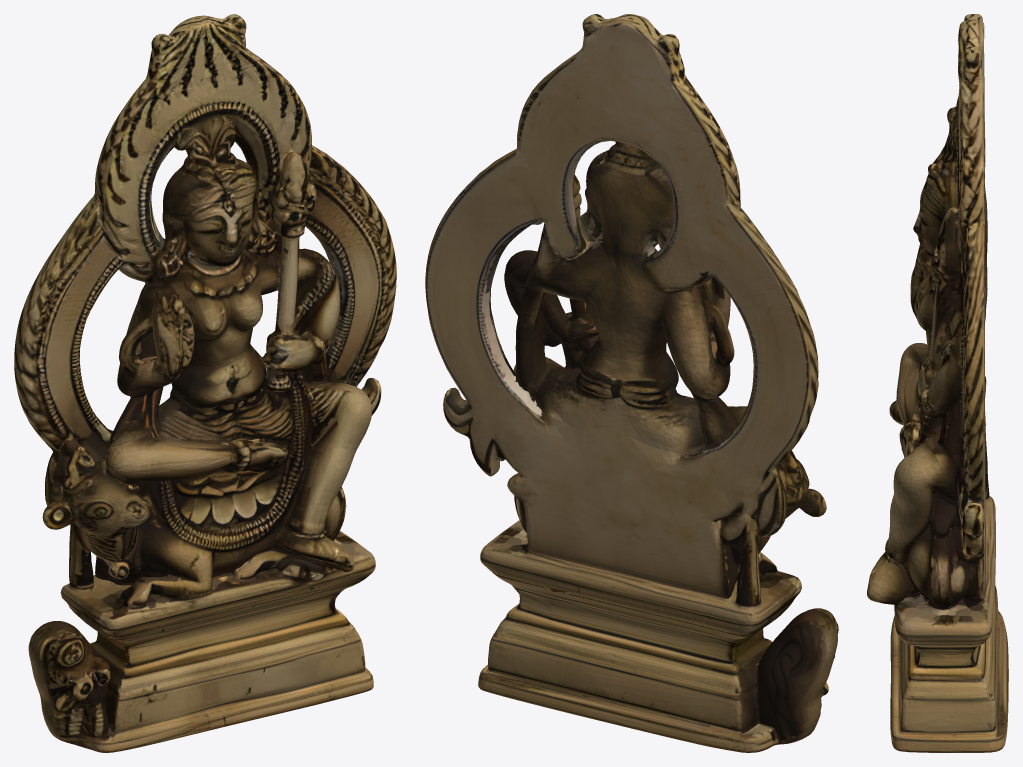
The picture shows the model from 3 angles, left to right: view 1: azimuth 30°, elevation 25°; view 2: azimuth 150°, elevation 25°; view 3: azimuth 270°, elevation 25°; orthographic projection. The views are drawn at different scales.
Visible parts, largest first — view 1: textured_mesh; view 2: textured_mesh; view 3: textured_mesh.
Boxes of the visible parts, bbox=[...] form: textured_mesh: bbox=[14, 14, 396, 752]; textured_mesh: bbox=[425, 14, 838, 752]; textured_mesh: bbox=[867, 14, 1008, 752].
Bounding box in the file's own units: 1.17 × 1.99 × 0.3859.
Materials: 1 (1 with a texture image).
